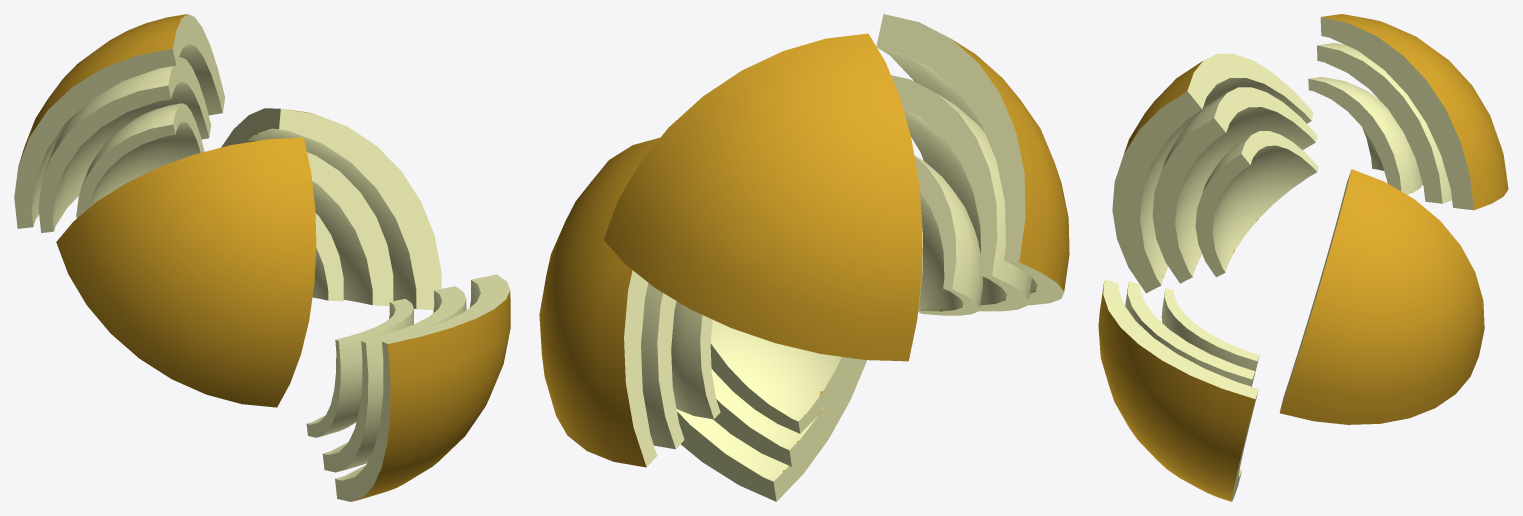
The model's file is CabbageCut.fbx.
3 views of the same model, side by side, from view 1: azimuth 30°, elevation 25°; view 2: azimuth 150°, elevation 25°; view 3: azimuth 270°, elevation 25° (orthographic). The views are drawn at different scales.
Visible parts, largest first — view 1: 球.001, 球.003, 球.002, 球.004; view 2: 球.002, 球.001, 球.004, 球.003; view 3: 球.004, 球.001, 球.002, 球.003.
Boxes of the visible parts, x1,y1,x2,y2 form: 球.001: (56, 137, 316, 407); 球.003: (306, 274, 510, 501); 球.002: (14, 14, 224, 232); 球.004: (221, 108, 441, 309); 球.002: (603, 33, 922, 361); 球.001: (876, 14, 1069, 315); 球.004: (539, 137, 720, 467); 球.003: (676, 320, 867, 501); 球.004: (1279, 169, 1484, 424); 球.001: (1112, 53, 1318, 293); 球.002: (1308, 14, 1508, 210); 球.003: (1098, 279, 1259, 501).
Size of the model in its own units: 244 by 254 by 226.
